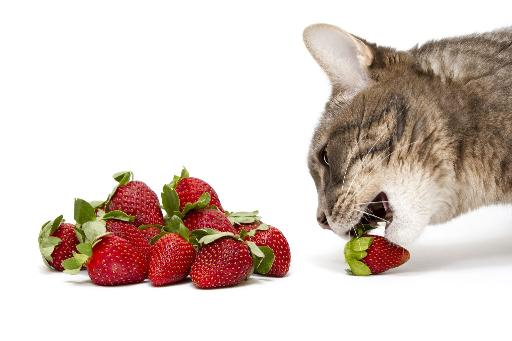cat_eating: (303, 24, 512, 276)
